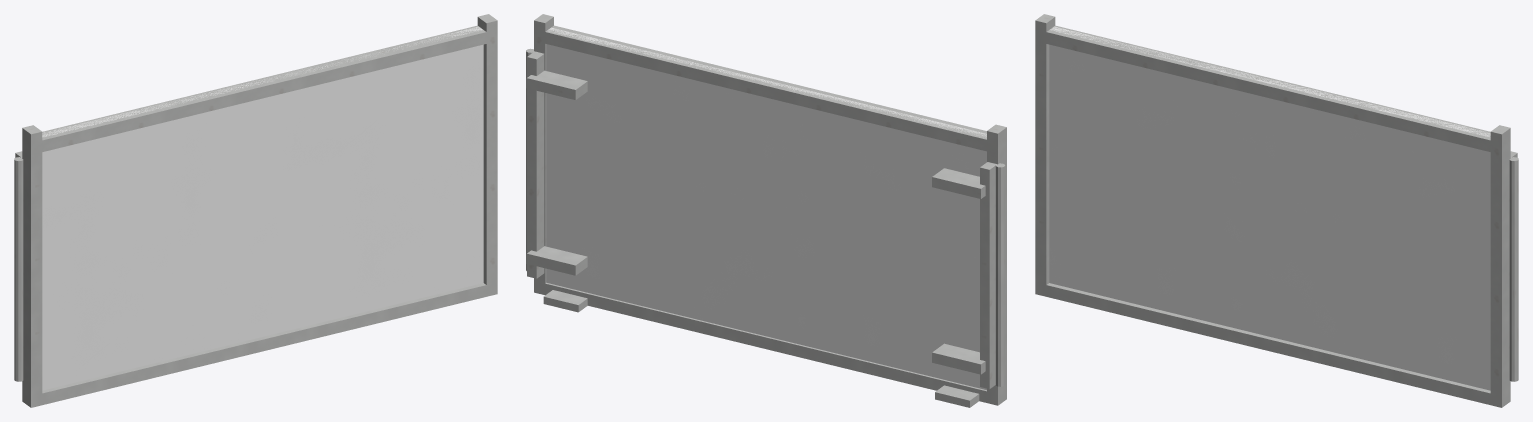
Rendered from redpanel.gltf.
The picture shows the model from 3 angles, left to right: view 1: azimuth 30°, elevation 25°; view 2: azimuth 150°, elevation 25°; view 3: azimuth 330°, elevation 25°; orthographic projection.
Visible parts, largest first — view 1: jx_redpanel; view 2: jx_redpanel; view 3: jx_redpanel.
Part boxes in pixels (box(x1,y1,x2,y2)): jx_redpanel: box(14, 14, 497, 407); jx_redpanel: box(526, 14, 1006, 407); jx_redpanel: box(1035, 14, 1518, 407).
Size of the model in its own units: 6.83 by 3.72 by 0.52.
Materials: 2 (2 with a texture image).
